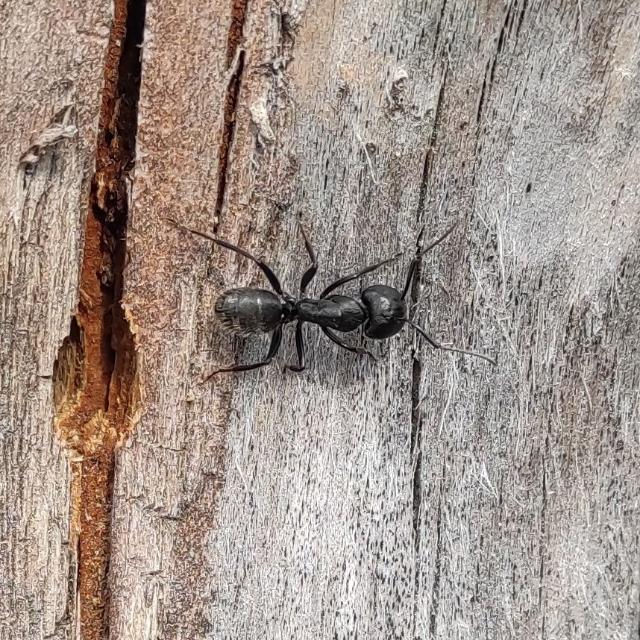Camponotus: (180, 216, 454, 402)
